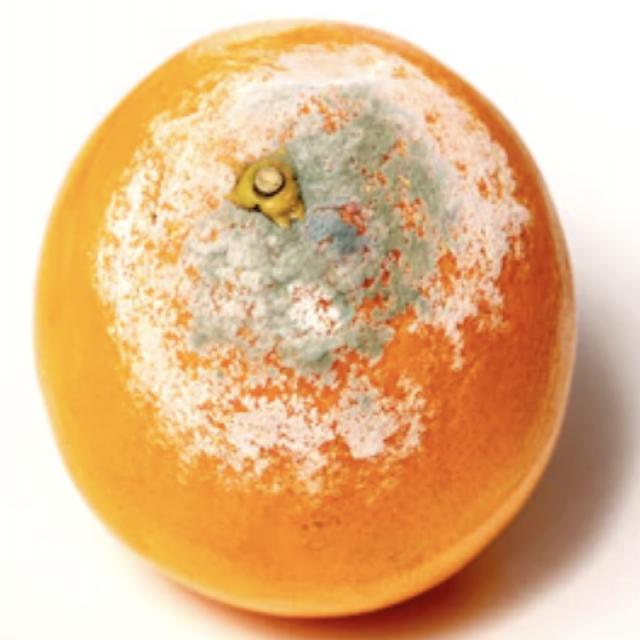rotten-orange: (33, 24, 581, 621)
